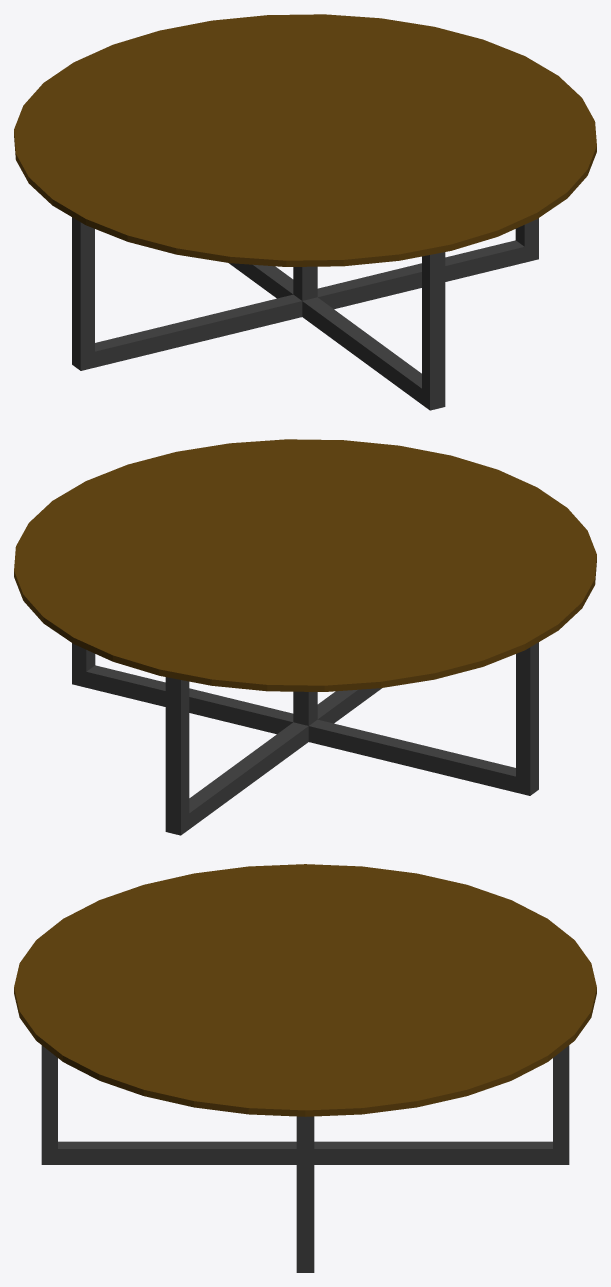
File: OfficeTable.fbx
The picture shows the model from 3 angles, top to bottom: view 1: azimuth 30°, elevation 25°; view 2: azimuth 150°, elevation 25°; view 3: azimuth 270°, elevation 25°; orthographic projection.
Visible parts, largest first — view 1: TableTop, Stand; view 2: TableTop, Stand; view 3: TableTop, Stand.
Boxes of the visible parts, left/top/right/bottom form: TableTop: left=14, top=14, right=596, bottom=266; Stand: left=72, top=217, right=538, bottom=410; TableTop: left=14, top=439, right=596, bottom=691; Stand: left=72, top=642, right=538, bottom=835; TableTop: left=14, top=864, right=596, bottom=1116; Stand: left=41, top=1045, right=569, bottom=1272.
Bounding box in the file's own units: 3305 × 1089 × 3305.
